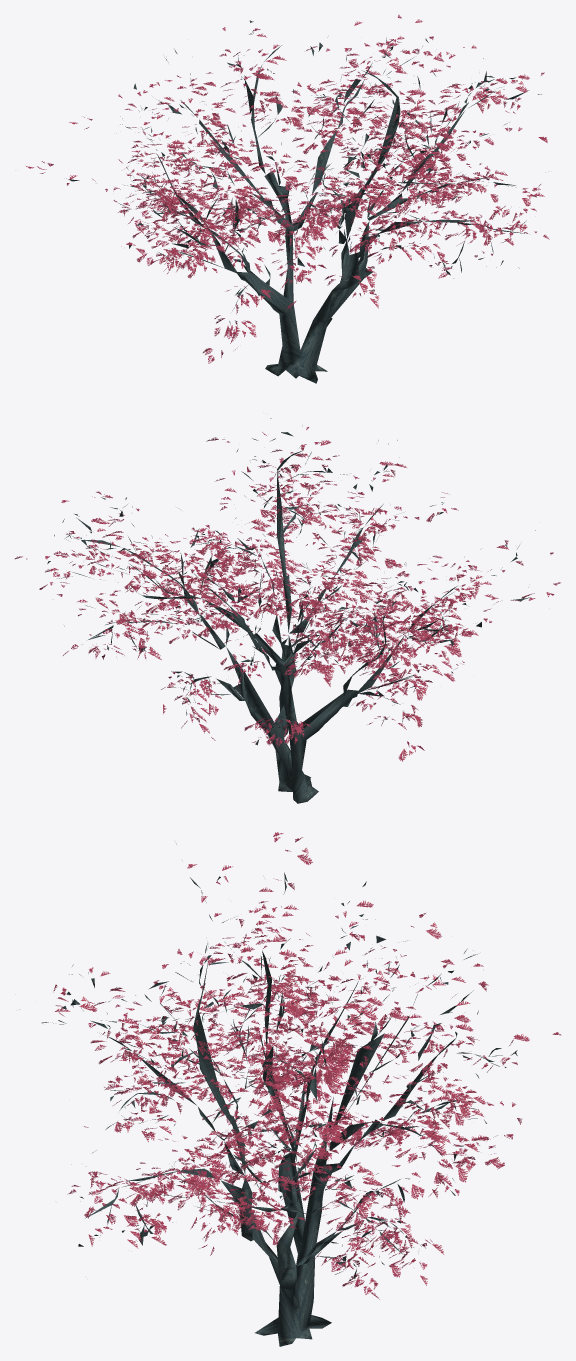
The model's file is canopy-far.glb.
3 renders of one model, top to bottom at view 1: azimuth 30°, elevation 25°; view 2: azimuth 150°, elevation 25°; view 3: azimuth 270°, elevation 25°, orthographic. The views are drawn at different scales.
Visible parts, largest first — view 1: jacaranda_tree_LOD0; view 2: jacaranda_tree_LOD0; view 3: jacaranda_tree_LOD0.
Part boxes in pixels (box(x1,y1,x2,y2)): jacaranda_tree_LOD0: box(26, 15, 549, 383); jacaranda_tree_LOD0: box(15, 418, 560, 803); jacaranda_tree_LOD0: box(41, 832, 561, 1346).
Size of the model in its own units: 32.13 by 20.15 by 23.79.
Materials: 3 (3 with a texture image).
